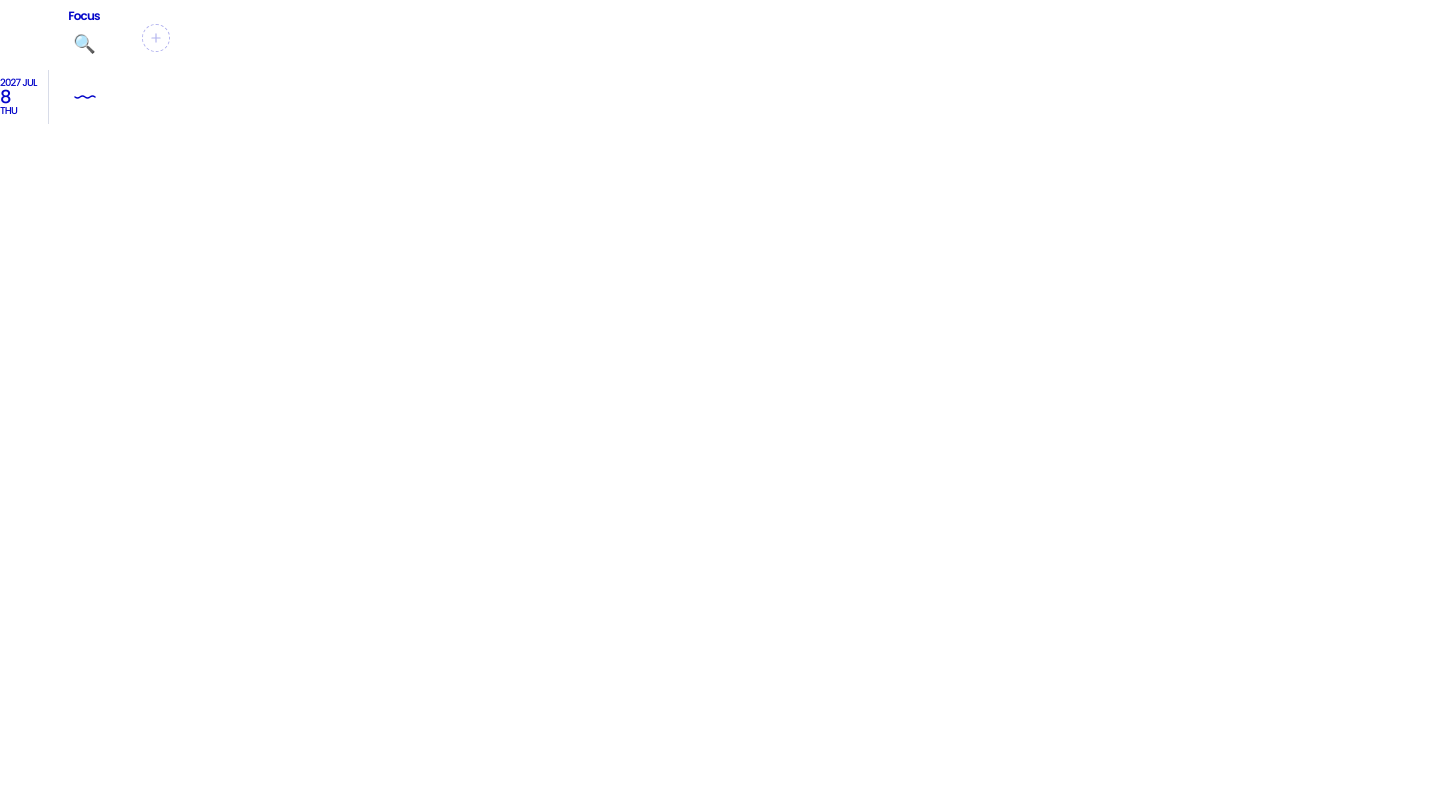
the matrix keeps its labels in view › opens a lane on its own header, and nothing about mappings
Click the text "Focus".
click(84, 16)  # box [68, 8, 100, 24]
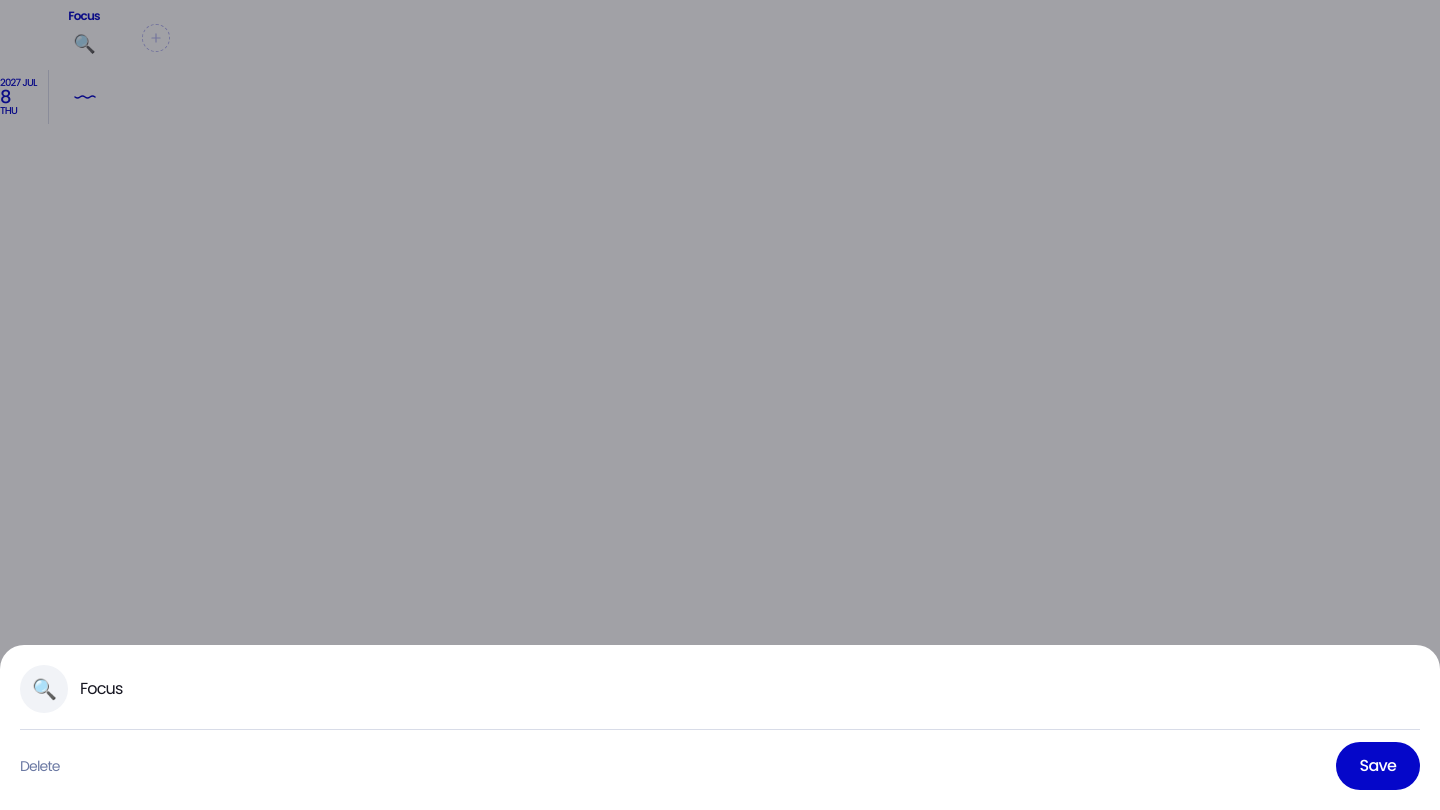
Now the dialog named "Edit this lane" is shown, box [0, 645, 1439, 809]
Now the field named "lane name" holds "Focus", box [80, 677, 1420, 701]
